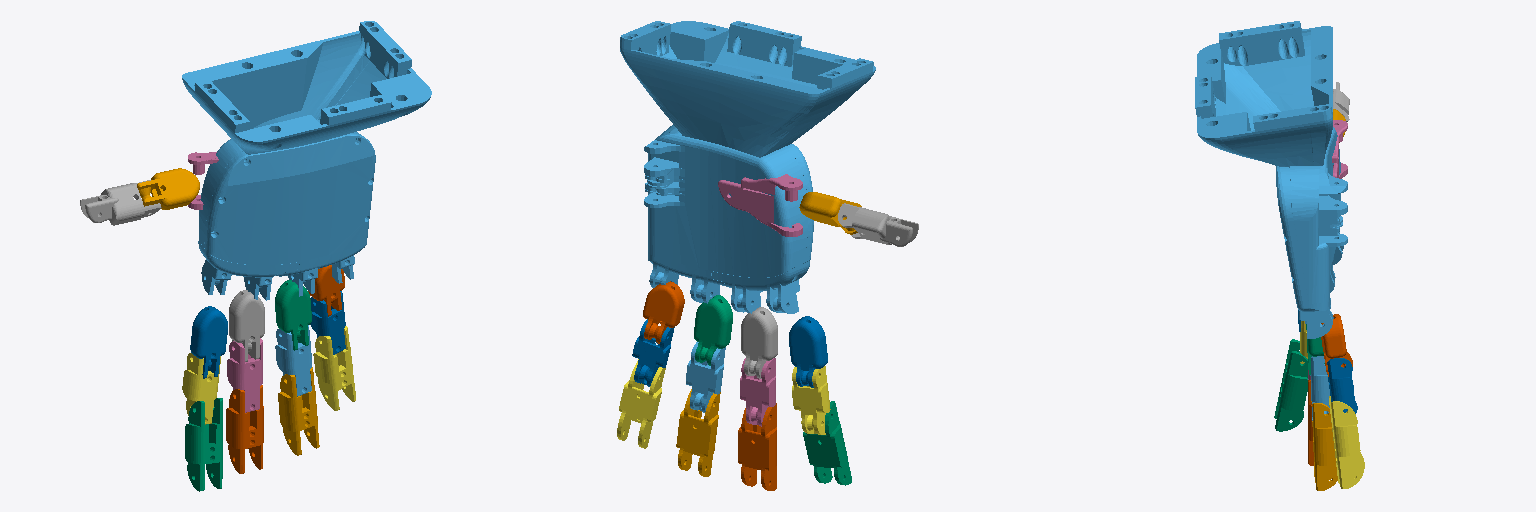
The robot description file, URDF, robot "ruka_left":
<?xml version="1.0" ?>
<robot name="ruka_left">
  <link name="base_link">
    <inertial>
      <origin xyz="0 0 0" rpy="0 0 0"/>
      <mass value="0.001"/>
      <inertia ixx="1e-06" ixy="0" ixz="0" iyy="1e-06" iyz="0" izz="1e-06"/>
    </inertial>
  </link>
  <joint name="base_to_palm" type="fixed">
    <origin xyz="0 0 0" rpy="0 0 0"/>
    <parent link="base_link"/>
    <child link="Palm_Link"/>
  </joint>
  <link name="Palm_Link">
    <visual>
      <origin xyz="0.00000000 0.00000000 0.00000000" rpy="0.00000000 0.00000000 0.00000000"/>
      <geometry>
        <mesh filename="meshes/Palm.STL" scale="-1 1 1"/>
      </geometry>
    </visual>
  </link>
  <link name="Index_MCP_Link">
    <inertial>
      <origin xyz="-0.02887240 -0.00000001 0.00378475" rpy="-3.14159265 1.56785193 0.00000000"/>
      <mass value="0.00327912"/>
      <inertia ixx="1.41290423e-07" ixy="0.00000000e+00" ixz="8.23038687e-10" iyy="3.58574000e-07" iyz="0.00000000e+00" izz="4.20814577e-07"/>
    </inertial>
    <visual>
      <origin xyz="0.04600000 0.00500000 -0.00300000" rpy="0.00000000 -0.00000000 0.00000000"/>
      <geometry>
        <mesh filename="meshes/Index_MCP.STL" scale="-1 1 1"/>
      </geometry>
    </visual>
    <collision>
      <origin xyz="0.01600000 0.00500000 0.00010000" rpy="0.00000000 -0.00000000 0.00000000"/>
      <geometry>
        <box size="0.030000 0.014000 0.010000"/>
      </geometry>
    </collision>
  </link>
  <link name="Index_DIP_Link">
    <inertial>
      <origin xyz="-0.00073441 -0.00000013 0.00333493" rpy="3.14159265 1.51985792 0.00000000"/>
      <mass value="0.0030053"/>
      <inertia ixx="9.14346587e-08" ixy="0.00000000e+00" ixz="-9.51029437e-09" iyy="2.50136000e-07" iyz="0.00000000e+00" izz="2.77490141e-07"/>
    </inertial>
    <visual>
      <origin xyz="0.01200000 0.00500000 -0.00300000" rpy="0.00000000 -0.00000000 0.00000000"/>
      <geometry>
        <mesh filename="meshes/Index_DIP.STL" scale="-1 1 1"/>
      </geometry>
    </visual>
    <collision>
      <origin xyz="0.01200000 0.00500000 0.00000000" rpy="0.00000000 -0.00000000 0.00000000"/>
      <geometry>
        <box size="0.034000 0.014000 0.010000"/>
      </geometry>
    </collision>
  </link>
  <link name="Index_PIP_Link">
    <inertial>
      <origin xyz="0.02740830 0.00000010 0.00320314" rpy="-0.00001073 1.51497287 3.14159265"/>
      <mass value="0.00356977"/>
      <inertia ixx="1.11979619e-07" ixy="-1.93265309e-12" ixz="1.23407277e-08" iyy="2.91756000e-07" iyz="1.07999340e-13" izz="3.32127381e-07"/>
    </inertial>
    <visual>
      <origin xyz="-0.01300000 0.00040000 -0.00500000" rpy="0.00000000 -0.00000000 0.00000000"/>
      <geometry>
        <mesh filename="meshes/Index_PIP.STL" scale="-1 1 1"/>
      </geometry>
    </visual>
    <collision>
      <origin xyz="0.01500000 0.00040000 -0.00200000" rpy="0.00000000 -0.00000000 0.00000000"/>
      <geometry>
        <box size="0.029000 0.014000 0.010000"/>
      </geometry>
    </collision>
  </link>
  <link name="Middle_MCP_Link">
    <inertial>
      <origin xyz="-0.02887240 -0.00000001 0.00378477" rpy="-3.14159265 1.56785193 0.00000000"/>
      <mass value="0.00327911"/>
      <inertia ixx="1.41290423e-07" ixy="0.00000000e+00" ixz="8.23032798e-10" iyy="3.58572000e-07" iyz="0.00000000e+00" izz="4.20812577e-07"/>
    </inertial>
    <visual>
      <origin xyz="0.04600000 0.00000000 -0.00300000" rpy="0.00000000 -0.00000000 0.00000000"/>
      <geometry>
        <mesh filename="meshes/Middle_MCP.STL" scale="-1 1 1"/>
      </geometry>
    </visual>
    <collision>
      <origin xyz="0.01600000 0.00000000 0.00010000" rpy="0.00000000 -0.00000000 0.00000000"/>
      <geometry>
        <box size="0.034000 0.014000 0.010000"/>
      </geometry>
    </collision>
  </link>
  <link name="Middle_DIP_Link">
    <inertial>
      <origin xyz="-0.00073441 -0.00000013 0.00333494" rpy="3.14159265 1.51985792 0.00000000"/>
      <mass value="0.0030053"/>
      <inertia ixx="9.14347584e-08" ixy="0.00000000e+00" ixz="-9.51028928e-09" iyy="2.50136000e-07" iyz="0.00000000e+00" izz="2.77490142e-07"/>
    </inertial>
    <visual>
      <origin xyz="0.01200000 0.00000000 -0.00300000" rpy="0.00000000 -0.00000000 0.00000000"/>
      <geometry>
        <mesh filename="meshes/Middle_DIP.STL" scale="-1 1 1"/>
      </geometry>
    </visual>
    <collision>
      <origin xyz="0.01200000 0.00000000 0.00000000" rpy="0.00000000 -0.00000000 0.00000000"/>
      <geometry>
        <box size="0.034000 0.014000 0.010000"/>
      </geometry>
    </collision>
  </link>
  <link name="Middle_PIP_Link">
    <inertial>
      <origin xyz="0.02740830 0.00000010 0.00320314" rpy="-0.00000976 1.51497287 3.14159265"/>
      <mass value="0.00356977"/>
      <inertia ixx="1.11979619e-07" ixy="-1.75842084e-12" ixz="1.23407277e-08" iyy="2.91756000e-07" iyz="9.82628583e-14" izz="3.32127381e-07"/>
    </inertial>
    <visual>
      <origin xyz="-0.01400000 0.00000000 -0.00450000" rpy="0.00000000 -0.00000000 0.00000000"/>
      <geometry>
        <mesh filename="meshes/Middle_PIP.STL" scale="-1 1 1"/>
      </geometry>
    </visual>
    <collision>
      <origin xyz="0.01500000 0.00040000 -0.00200000" rpy="0.00000000 -0.00000000 0.00000000"/>
      <geometry>
        <box size="0.029000 0.014000 0.010000"/>
      </geometry>
    </collision>
  </link>
  <link name="Ring_MCP_Link">
    <inertial>
      <origin xyz="-0.02887240 -0.00000001 0.00378476" rpy="-3.14159265 1.56785193 0.00000000"/>
      <mass value="0.00327912"/>
      <inertia ixx="1.41290423e-07" ixy="0.00000000e+00" ixz="8.23038687e-10" iyy="3.58574000e-07" iyz="0.00000000e+00" izz="4.20814577e-07"/>
    </inertial>
    <visual>
      <origin xyz="0.04600000 0.00000000 -0.00400000" rpy="0.00000000 -0.00000000 0.00000000"/>
      <geometry>
        <mesh filename="meshes/Ring_MCP.STL" scale="-1 1 1"/>
      </geometry>
    </visual>
    <collision>
      <origin xyz="0.01600000 0.00000000 0.00010000" rpy="0.00000000 -0.00000000 0.00000000"/>
      <geometry>
        <box size="0.030000 0.014000 0.010000"/>
      </geometry>
    </collision>
  </link>
  <link name="Ring_DIP_Link">
    <inertial>
      <origin xyz="-0.00073441 -0.00000013 0.00333494" rpy="3.14159265 1.51985792 0.00000000"/>
      <mass value="0.00300529"/>
      <inertia ixx="9.14347584e-08" ixy="0.00000000e+00" ixz="-9.51028928e-09" iyy="2.50136000e-07" iyz="0.00000000e+00" izz="2.77490142e-07"/>
    </inertial>
    <visual>
      <origin xyz="0.01000000 0.00000000 -0.00400000" rpy="0.00000000 -0.00000000 0.00000000"/>
      <geometry>
        <mesh filename="meshes/Ring_DIP.STL" scale="-1 1 1"/>
      </geometry>
    </visual>
    <collision>
      <origin xyz="0.01000000 0.00000000 0.00000000" rpy="0.00000000 -0.00000000 0.00000000"/>
      <geometry>
        <box size="0.030000 0.014000 0.010000"/>
      </geometry>
    </collision>
  </link>
  <link name="Ring_PIP_Link">
    <inertial>
      <origin xyz="0.02740830 0.00000010 0.00320315" rpy="-0.00000936 1.51497432 3.14159265"/>
      <mass value="0.00356976"/>
      <inertia ixx="1.11979580e-07" ixy="-1.68673134e-12" ixz="1.23403521e-08" iyy="2.91756000e-07" iyz="9.42545028e-14" izz="3.32126420e-07"/>
    </inertial>
    <visual>
      <origin xyz="-0.01500000 0.00000000 -0.00500000" rpy="0.00000000 -0.00000000 0.00000000"/>
      <geometry>
        <mesh filename="meshes/Ring_PIP.STL" scale="-1 1 1"/>
      </geometry>
    </visual>
    <collision>
      <origin xyz="0.01300000 0.00010000 -0.00170000" rpy="0.00000000 -0.00000000 0.00000000"/>
      <geometry>
        <box size="0.028000 0.014000 0.010000"/>
      </geometry>
    </collision>
  </link>
  <link name="Pinky_MCP_Link">
    <inertial>
      <origin xyz="-0.02689170 -0.00000002 0.00337657" rpy="3.14158430 1.56263912 -0.00000000"/>
      <mass value="0.00308279"/>
      <inertia ixx="1.30752033e-07" ixy="-1.67729172e-12" ixz="-2.08801325e-09" iyy="3.31476000e-07" iyz="-1.36821654e-14" izz="3.86700967e-07"/>
    </inertial>
    <visual>
      <origin xyz="0.04200000 0.00000000 -0.00400000" rpy="0.00000000 -0.00000000 0.00000000"/>
      <geometry>
        <mesh filename="meshes/Pinky_MCP.STL" scale="-1 1 1"/>
      </geometry>
    </visual>
    <collision>
      <origin xyz="0.01400000 0.00000000 0.00000000" rpy="0.00000000 -0.00000000 0.00000000"/>
      <geometry>
        <box size="0.034000 0.014000 0.010000"/>
      </geometry>
    </collision>
  </link>
  <link name="Pinky_DIP_Link">
    <inertial>
      <origin xyz="-0.00075721 -0.00000014 0.00329943" rpy="3.14159265 1.51054172 0.00000000"/>
      <mass value="0.00260945"/>
      <inertia ixx="7.77156573e-08" ixy="0.00000000e+00" ixz="-8.13321083e-09" iyy="1.89485000e-07" iyz="0.00000000e+00" izz="2.12042343e-07"/>
    </inertial>
    <visual>
      <origin xyz="0.01000000 0.00000000 -0.00370000" rpy="0.00000000 -0.00000000 0.00000000"/>
      <geometry>
        <mesh filename="meshes/Pinky_DIP.STL" scale="-1 1 1"/>
      </geometry>
    </visual>
    <collision>
      <origin xyz="0.01000000 0.00000000 0.00000000" rpy="0.00000000 -0.00000000 0.00000000"/>
      <geometry>
        <box size="0.030000 0.014000 0.010000"/>
      </geometry>
    </collision>
  </link>
  <link name="Pinky_PIP_Link">
    <inertial>
      <origin xyz="0.02365750 -0.00000009 0.00338829" rpy="-0.00001441 1.51923689 -3.14159265"/>
      <mass value="0.00306875"/>
      <inertia ixx="9.65855589e-08" ixy="-1.43811057e-12" ixz="6.92874012e-09" iyy="1.96147000e-07" iyz="7.42142439e-14" izz="2.30492441e-07"/>
    </inertial>
    <visual>
      <origin xyz="-0.01300000 0.00000000 -0.00500000" rpy="0.00000000 -0.00000000 0.00000000"/>
      <geometry>
        <mesh filename="meshes/Pinky_PIP.STL" scale="-1 1 1"/>
      </geometry>
    </visual>
    <collision>
      <origin xyz="0.01250000 0.00010000 -0.00170000" rpy="0.00000000 -0.00000000 0.00000000"/>
      <geometry>
        <box size="0.021000 0.014000 0.010000"/>
      </geometry>
    </collision>
  </link>
  <link name="Thumb_MCP_Link">
    <inertial>
      <origin xyz="-0.01625260 -0.00468252 0.00333969" rpy="3.10037753 1.41738011 -0.02266381"/>
      <mass value="0.00526715"/>
      <inertia ixx="3.78342689e-07" ixy="-3.45351640e-09" ixz="-5.79254673e-08" iyy="5.49214734e-07" iyz="1.80650659e-10" izz="7.44165578e-07"/>
    </inertial>
    <visual>
      <origin xyz="0.00000000 0.00000000 -0.00700000" rpy="0.00000000 -0.00000000 0.00000000"/>
      <geometry>
        <mesh filename="meshes/Thumb_MCP.STL" scale="-1 1 1"/>
      </geometry>
    </visual>
    <collision>
      <origin xyz="-0.01300000 -0.00300000 -0.00320000" rpy="0.00000000 -0.00000000 0.00000000"/>
      <geometry>
        <box size="0.040000 0.027000 0.010000"/>
      </geometry>
    </collision>
  </link>
  <link name="Thumb_DIP_Link">
    <inertial>
      <origin xyz="0.00035916 0.00005043 0.00349653" rpy="2.44144043 1.55643312 -0.70653424"/>
      <mass value="0.0033002"/>
      <inertia ixx="1.24638475e-07" ixy="9.75172684e-10" ixz="-2.30332076e-09" iyy="2.79541579e-07" iyz="5.24312214e-10" izz="3.34593945e-07"/>
    </inertial>
    <visual>
      <origin xyz="0.01300000 0.00000000 -0.00190000" rpy="-0.79999936 -0.00000000 0.00000000"/>
      <geometry>
        <mesh filename="meshes/Thumb_DIP.STL" scale="-1 1 1"/>
      </geometry>
    </visual>
    <collision>
      <origin xyz="0.01300000 0.00300000 0.00050000" rpy="-0.79999936 -0.00000000 0.00000000"/>
      <geometry>
        <box size="0.030000 0.014000 0.010000"/>
      </geometry>
    </collision>
  </link>
  <link name="Thumb_PIP_Link">
    <inertial>
      <origin xyz="0.02821040 -0.00000005 0.00319437" rpy="0.00002681 1.51017103 3.14159265"/>
      <mass value="0.00347336"/>
      <inertia ixx="1.22784449e-07" ixy="3.67581857e-12" ixz="1.15066299e-08" iyy="2.59469000e-07" iyz="-2.23121257e-13" izz="3.11652551e-07"/>
    </inertial>
    <visual>
      <origin xyz="-0.01500000 0.00000000 -0.00500000" rpy="0.00000000 -0.00000000 0.00000000"/>
      <geometry>
        <mesh filename="meshes/Thumb_PIP.STL" scale="-1 1 1"/>
      </geometry>
    </visual>
    <collision>
      <origin xyz="0.01300000 0.00000000 -0.00170000" rpy="0.00000000 -0.00000000 0.00000000"/>
      <geometry>
        <box size="0.026000 0.015000 0.010000"/>
      </geometry>
    </collision>
  </link>
  <joint name="Index_MCP_Joint" type="revolute">
    <origin xyz="-0.03220000 0.01460070 -0.08022000" rpy="2.53259463 1.36009924 -2.12570493"/>
    <parent link="Palm_Link"/>
    <child link="Index_MCP_Link"/>
    <axis xyz="0.000000 1.000000 0.000000"/>
    <limit lower="0.00000" upper="2.44222" effort="10" velocity="10"/>
  </joint>
  <joint name="Index_DIP_Joint" type="revolute">
    <origin xyz="0.03505700 0.00000000 0.00200000" rpy="0.00000000 -0.17453000 0.00000000"/>
    <parent link="Index_MCP_Link"/>
    <child link="Index_DIP_Link"/>
    <axis xyz="0.000000 1.000000 0.000000"/>
    <limit lower="0.00000" upper="2.09000" effort="10" velocity="10"/>
  </joint>
  <joint name="Index_PIP_Joint" type="revolute">
    <origin xyz="0.02700000 0.00450000 0.00100000" rpy="0.00000000 -0.00000000 0.00000000"/>
    <parent link="Index_DIP_Link"/>
    <child link="Index_PIP_Link"/>
    <axis xyz="0.000000 1.000000 0.000000"/>
    <limit lower="0.00000" upper="2.09000" effort="10" velocity="10"/>
  </joint>
  <joint name="Middle_MCP_Joint" type="revolute">
    <origin xyz="-0.01518000 0.01354140 -0.08100000" rpy="-1.57079633 1.57079633 0.00000000"/>
    <parent link="Palm_Link"/>
    <child link="Middle_MCP_Link"/>
    <axis xyz="0.000000 1.000000 0.000000"/>
    <limit lower="0.00000" upper="2.44222" effort="10" velocity="10"/>
  </joint>
  <joint name="Middle_DIP_Joint" type="revolute">
    <origin xyz="0.03400000 0.00000000 0.00000000" rpy="0.00000000 -0.00000000 0.00000000"/>
    <parent link="Middle_MCP_Link"/>
    <child link="Middle_DIP_Link"/>
    <axis xyz="0.000000 1.000000 0.000000"/>
    <limit lower="0.00000" upper="2.09000" effort="10" velocity="10"/>
  </joint>
  <joint name="Middle_PIP_Joint" type="revolute">
    <origin xyz="0.02600000 0.00000000 0.00200000" rpy="0.00000000 -0.00000000 0.00000000"/>
    <parent link="Middle_DIP_Link"/>
    <child link="Middle_PIP_Link"/>
    <axis xyz="0.000000 1.000000 0.000000"/>
    <limit lower="0.00000" upper="2.09000" effort="10" velocity="10"/>
  </joint>
  <joint name="Ring_MCP_Joint" type="revolute">
    <origin xyz="0.00880000 0.01453000 -0.08009000" rpy="-1.28059549 1.45980129 0.34861406"/>
    <parent link="Palm_Link"/>
    <child link="Ring_MCP_Link"/>
    <axis xyz="0.000000 1.000000 0.000000"/>
    <limit lower="0.00000" upper="2.44222" effort="10" velocity="10"/>
  </joint>
  <joint name="Ring_DIP_Joint" type="revolute">
    <origin xyz="0.03600000 0.00000000 0.00000000" rpy="0.00000000 -0.00000000 0.00000000"/>
    <parent link="Ring_MCP_Link"/>
    <child link="Ring_DIP_Link"/>
    <axis xyz="0.000000 1.000000 0.000000"/>
    <limit lower="0.00000" upper="2.09000" effort="10" velocity="10"/>
  </joint>
  <joint name="Ring_PIP_Joint" type="revolute">
    <origin xyz="0.02574600 0.00000000 0.00000000" rpy="0.00000000 -0.00000000 0.00000000"/>
    <parent link="Ring_DIP_Link"/>
    <child link="Ring_PIP_Link"/>
    <axis xyz="0.000000 1.000000 0.000000"/>
    <limit lower="0.00000" upper="2.09000" effort="10" velocity="10"/>
  </joint>
  <joint name="Pinky_MCP_Joint" type="revolute">
    <origin xyz="0.03061700 0.02031300 -0.07398000" rpy="-1.14039703 1.36180011 0.55660297"/>
    <parent link="Palm_Link"/>
    <child link="Pinky_MCP_Link"/>
    <axis xyz="0.000000 1.000000 0.000000"/>
    <limit lower="0.00000" upper="2.44222" effort="10" velocity="10"/>
  </joint>
  <joint name="Pinky_DIP_Joint" type="revolute">
    <origin xyz="0.03200000 0.00000000 0.00000000" rpy="0.00000000 -0.02773508 0.00000000"/>
    <parent link="Pinky_MCP_Link"/>
    <child link="Pinky_DIP_Link"/>
    <axis xyz="0.000000 1.000000 0.000000"/>
    <limit lower="0.00000" upper="2.09000" effort="10" velocity="10"/>
  </joint>
  <joint name="Pinky_PIP_Joint" type="revolute">
    <origin xyz="0.02300000 0.00000000 0.00100000" rpy="0.00000000 -0.00000000 0.00000000"/>
    <parent link="Pinky_DIP_Link"/>
    <child link="Pinky_PIP_Link"/>
    <axis xyz="0.000000 1.000000 0.000000"/>
    <limit lower="0.00000" upper="2.09000" effort="10" velocity="10"/>
  </joint>
  <joint name="Thumb_CMC_Joint" type="revolute">
    <origin xyz="-0.03768800 0.02222500 -0.02511800" rpy="-1.57079916 0.00000010 -0.03185496"/>
    <parent link="Palm_Link"/>
    <child link="Thumb_MCP_Link"/>
    <axis xyz="0.000000 1.000000 0.000000"/>
    <limit lower="-3.31400" upper="0.00000" effort="10" velocity="10"/>
  </joint>
  <joint name="Thumb_MCP_Joint" type="revolute">
    <origin xyz="-0.03393500 -0.00440940 -0.00659990" rpy="1.57079067 0.00000000 3.14158531"/>
    <parent link="Thumb_MCP_Link"/>
    <child link="Thumb_DIP_Link"/>
    <axis xyz="0.000000 1.000000 0.000000"/>
    <limit lower="0.00000" upper="1.57000" effort="10" velocity="10"/>
  </joint>
  <joint name="Thumb_IP_Joint" type="revolute">
    <origin xyz="0.02779400 0.00350000 0.00000700" rpy="-0.78539962 -0.00000000 0.00000000"/>
    <parent link="Thumb_DIP_Link"/>
    <child link="Thumb_PIP_Link"/>
    <axis xyz="0.000000 1.000000 0.000000"/>
    <limit lower="0.00000" upper="2.09000" effort="10" velocity="10"/>
  </joint>
</robot>

--- Render facts (derived) ---
3 views of the same robot in one strip: view 1: azimuth 30°, elevation 25°; view 2: azimuth 150°, elevation 25°; view 3: azimuth 270°, elevation 25° (orthographic).
Robot: ruka_left — 17 links, 16 joints (15 revolute, 1 fixed); root link base_link; default pose: every joint at zero.
Visible links, largest first — view 1: Palm_Link, Index_MCP_Link, Middle_MCP_Link, Ring_MCP_Link, Pinky_MCP_Link, Thumb_DIP_Link, Index_PIP_Link, Thumb_PIP_Link, Middle_PIP_Link, Ring_PIP_Link, Middle_DIP_Link, Ring_DIP_Link (+4 smaller); view 2: Palm_Link, Thumb_MCP_Link, Middle_MCP_Link, Ring_MCP_Link, Index_MCP_Link, Pinky_MCP_Link, Thumb_DIP_Link, Middle_PIP_Link, Index_PIP_Link, Ring_PIP_Link, Index_DIP_Link, Pinky_PIP_Link (+4 smaller); view 3: Palm_Link, Pinky_MCP_Link, Index_MCP_Link, Ring_MCP_Link, Pinky_DIP_Link, Pinky_PIP_Link, Ring_DIP_Link.
Boxes of the visible links, box(x1,y1,x2,y2) form: Palm_Link: box(182, 21, 431, 300); Index_MCP_Link: box(185, 398, 222, 491); Middle_MCP_Link: box(226, 385, 263, 473); Ring_MCP_Link: box(278, 367, 319, 455); Pinky_MCP_Link: box(313, 326, 355, 410); Thumb_DIP_Link: box(80, 180, 161, 225); Index_PIP_Link: box(190, 306, 227, 378); Thumb_PIP_Link: box(137, 168, 199, 209); Middle_PIP_Link: box(229, 290, 264, 361); Ring_PIP_Link: box(275, 280, 311, 350); Middle_DIP_Link: box(227, 338, 262, 412); Ring_DIP_Link: box(275, 325, 311, 396); Palm_Link: box(620, 21, 875, 313); Thumb_MCP_Link: box(718, 174, 802, 236); Middle_MCP_Link: box(738, 403, 776, 490); Ring_MCP_Link: box(676, 389, 720, 476); Index_MCP_Link: box(803, 401, 851, 485); Pinky_MCP_Link: box(617, 359, 665, 448); Thumb_DIP_Link: box(838, 203, 918, 246); Middle_PIP_Link: box(741, 307, 777, 378); Index_PIP_Link: box(789, 316, 827, 387); Ring_PIP_Link: box(694, 295, 732, 365); Index_DIP_Link: box(792, 366, 830, 434); Pinky_PIP_Link: box(643, 281, 684, 343); Palm_Link: box(1195, 21, 1347, 338); Pinky_MCP_Link: box(1329, 396, 1364, 488); Index_MCP_Link: box(1274, 339, 1307, 431); Ring_MCP_Link: box(1311, 401, 1337, 490); Pinky_DIP_Link: box(1327, 358, 1357, 413); Pinky_PIP_Link: box(1321, 314, 1352, 376); Ring_DIP_Link: box(1310, 356, 1329, 420).
Bounding box of the posed robot: 0.1649 × 0.0831 × 0.2241 m (x, y, z).
Meshes: 16 distinct files referenced, 16 mesh visuals loaded (16 binary STL).
